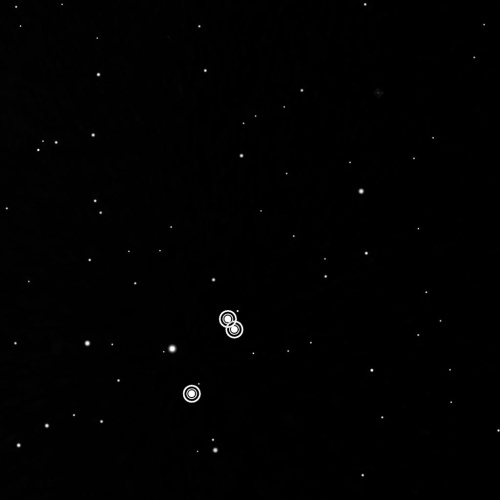canis_minor: (177, 305, 247, 408)
